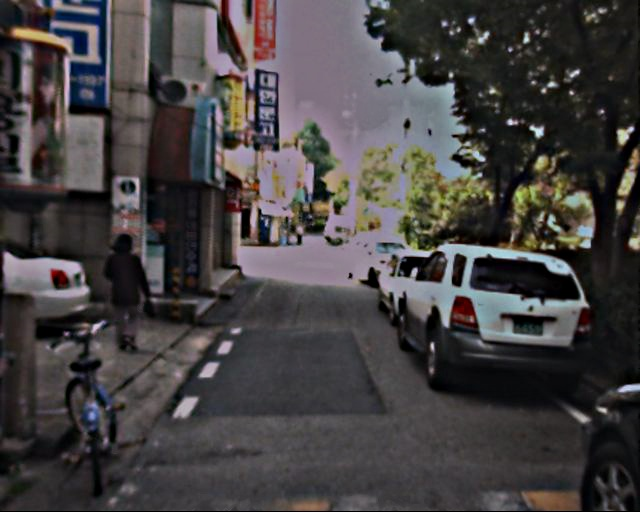person: (102, 224, 154, 353)
